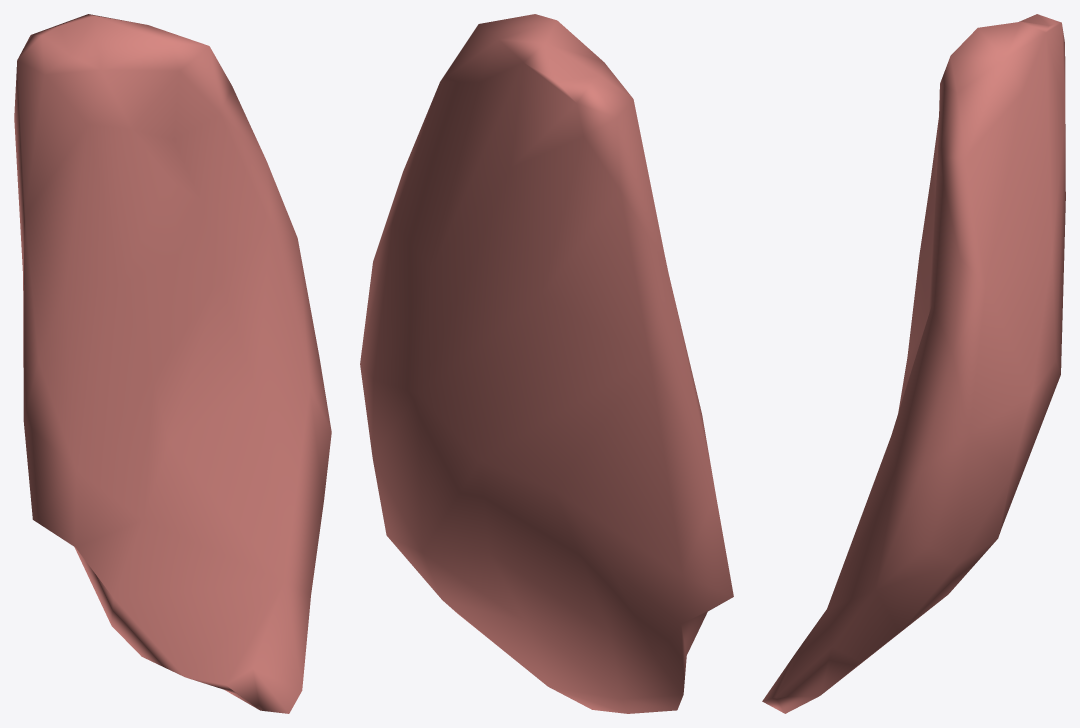
Rendered from fma81554_mm1326.glb.
3 views of the same model, side by side, from view 1: azimuth 30°, elevation 25°; view 2: azimuth 150°, elevation 25°; view 3: azimuth 270°, elevation 25° (orthographic). The views are drawn at different scales.
Parts seen in each view (by area): view 1: FMA81554_MM1326; view 2: FMA81554_MM1326; view 3: FMA81554_MM1326.
Part boxes in pixels (x1,y1,x2,y2): FMA81554_MM1326: [14, 14, 331, 713]; FMA81554_MM1326: [360, 14, 733, 713]; FMA81554_MM1326: [762, 14, 1065, 713].
Bounding box in the file's own units: 0.00554 × 0.0118 × 0.00499.
